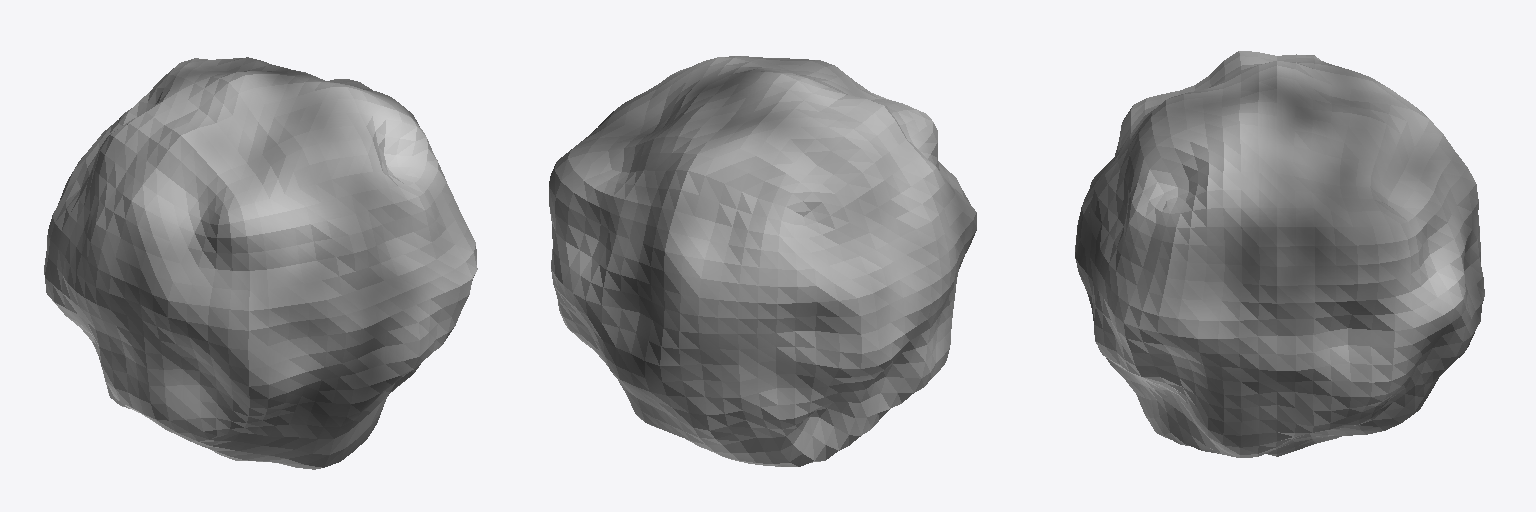
The picture shows the model from 3 angles: view 1: azimuth 30°, elevation 25°; view 2: azimuth 150°, elevation 25°; view 3: azimuth 270°, elevation 25°; orthographic projection.
Visible parts, largest first — view 1: Asteroid; view 2: Asteroid; view 3: Asteroid.
Boxes of the visible parts, <box> form: Asteroid: <box>44,57,477,469</box>; Asteroid: <box>549,56,976,466</box>; Asteroid: <box>1075,51,1484,457</box>.
Bounding box in the file's own units: 2.3 × 2.35 × 2.37.
Materials: 1 (1 with a texture image).